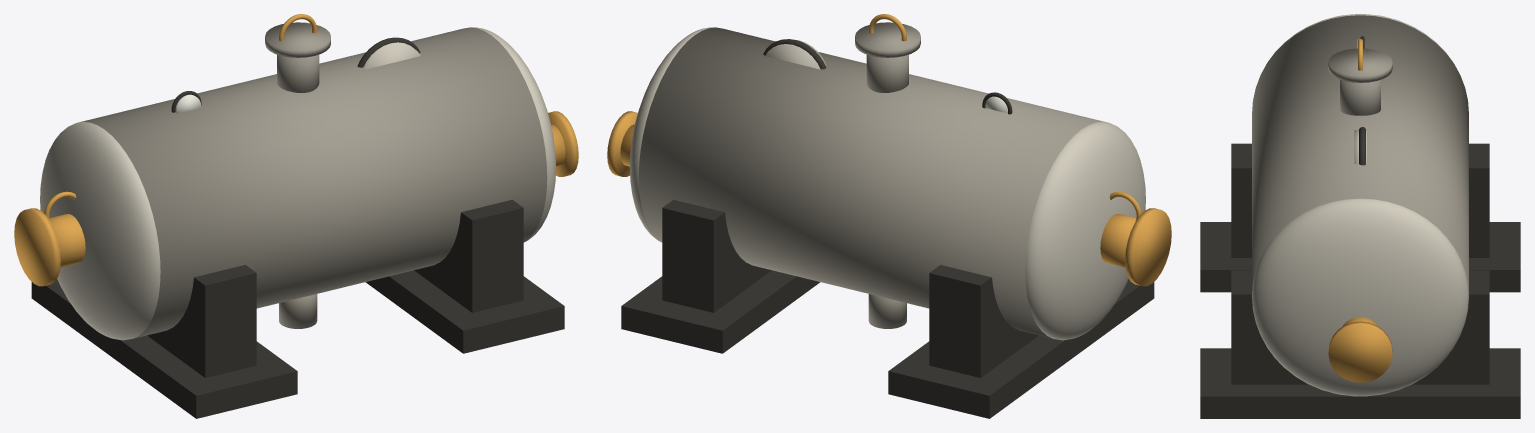
File: separator.obj
3 views of the same model, side by side, from view 1: azimuth 30°, elevation 25°; view 2: azimuth 150°, elevation 25°; view 3: azimuth 270°, elevation 25° (orthographic). The views are drawn at different scales.
Visible parts, largest first — view 1: separator__Steel, separator__DarkSteel, separator__LightSteel, separator__Amber; view 2: separator__Steel, separator__DarkSteel, separator__LightSteel, separator__Amber; view 3: separator__Steel, separator__LightSteel, separator__DarkSteel, separator__Amber.
Part boxes in pixels (box(x1,y1,x2,y2)): separator__Steel: box(78, 22, 547, 338); separator__DarkSteel: box(31, 37, 564, 418); separator__LightSteel: box(40, 27, 556, 340); separator__Amber: box(14, 14, 578, 286); separator__Steel: box(638, 22, 1107, 338); separator__DarkSteel: box(621, 39, 1154, 418); separator__LightSteel: box(629, 27, 1145, 340); separator__Amber: box(607, 14, 1171, 286); separator__Steel: box(1252, 15, 1468, 294); separator__LightSteel: box(1252, 14, 1468, 396); separator__DarkSteel: box(1200, 36, 1520, 418); separator__Amber: box(1328, 39, 1392, 382).
Size of the model in its own units: 5.74 by 3.18 by 3.1.
